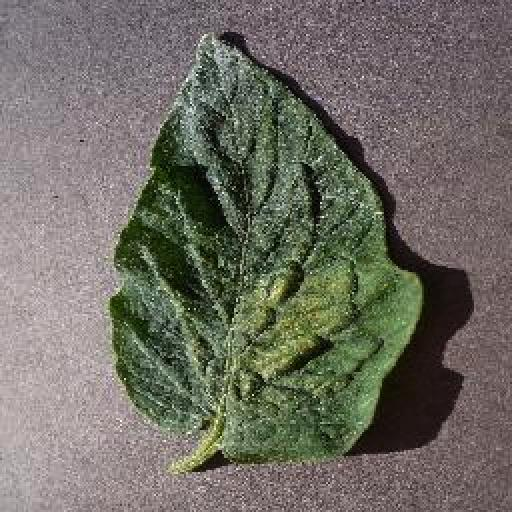disease_tomato: (110, 29, 422, 463)
